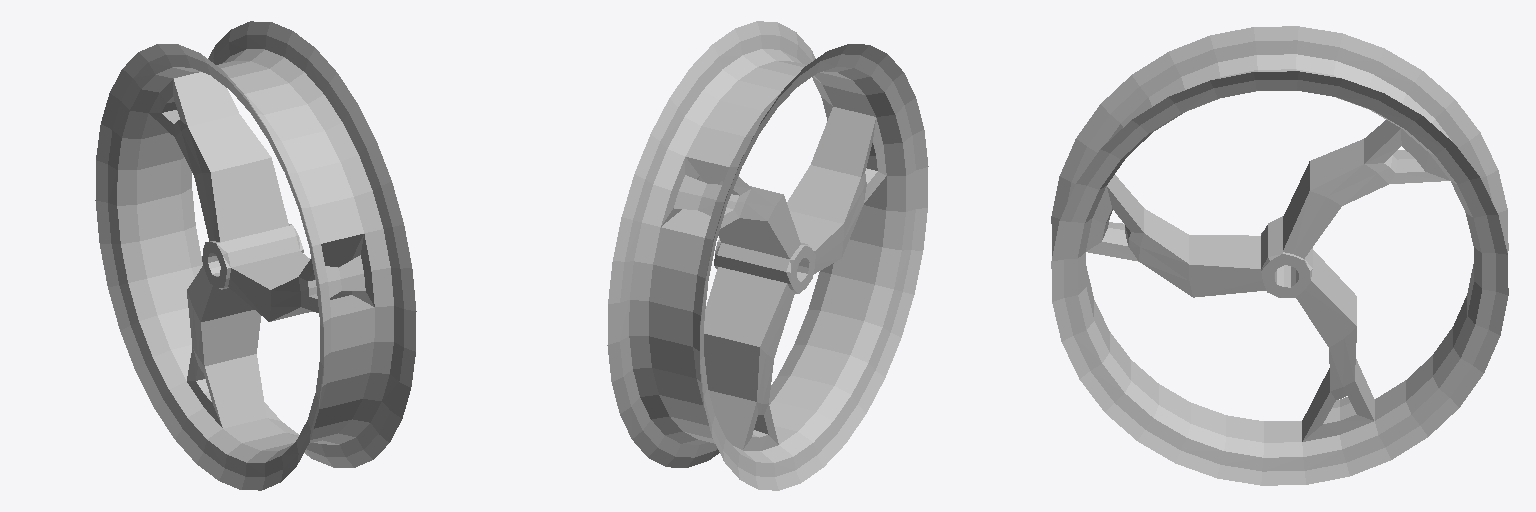
File: hayabusa_backWheel_metal.obj
3 renders of one model, left to right at view 1: azimuth 30°, elevation 25°; view 2: azimuth 150°, elevation 25°; view 3: azimuth 270°, elevation 25°, orthographic.
Parts seen in each view (by area): view 1: diskZad_Circle.007; view 2: diskZad_Circle.007; view 3: diskZad_Circle.007.
Part boxes in pixels (x1,y1,x2,y2): diskZad_Circle.007: (95, 21, 416, 490); diskZad_Circle.007: (607, 21, 928, 490); diskZad_Circle.007: (1051, 26, 1508, 485).
Size of the model in its own units: 0.5049 by 2.16 by 2.16.